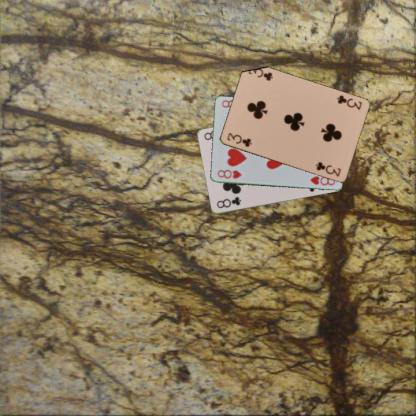3c: (334, 92, 363, 112), (224, 130, 253, 148)
8c: (214, 194, 242, 210)
8h: (215, 168, 243, 180)
